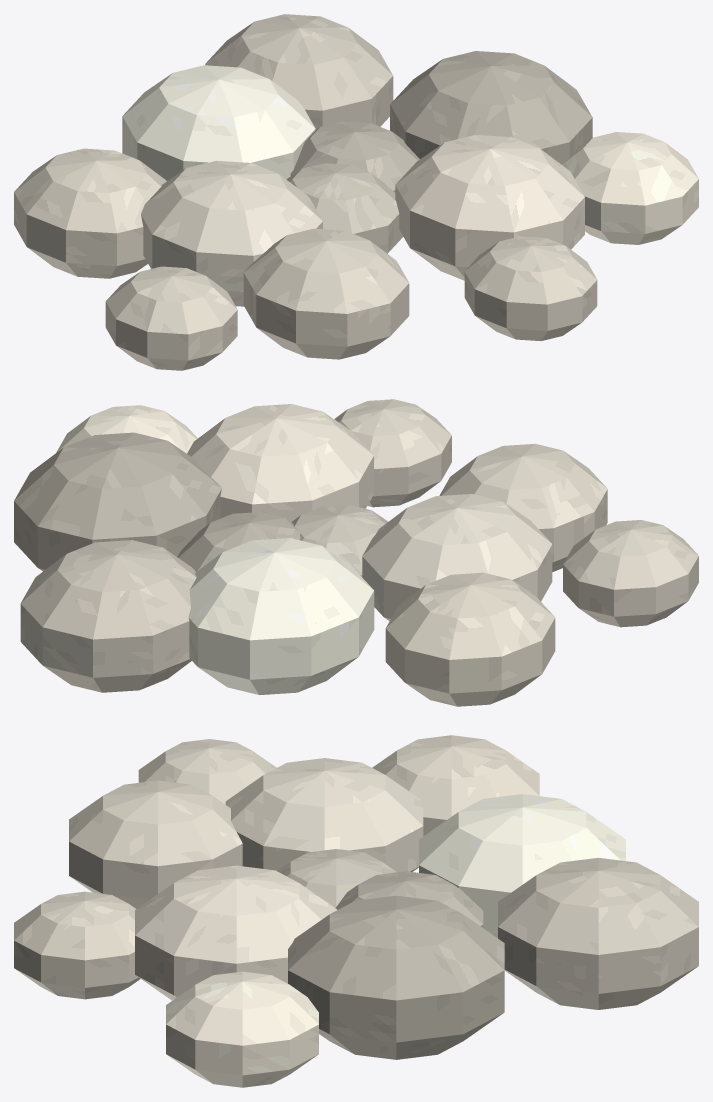
Rendered from popcorn2.glb.
The picture shows the model from 3 angles, top to bottom: view 1: azimuth 30°, elevation 25°; view 2: azimuth 150°, elevation 25°; view 3: azimuth 270°, elevation 25°; orthographic projection. The views are drawn at different scales.
Parts seen in each view (by area): view 1: block_grain 3, block_grain 5, block_grain 4, block_grain 2, block_grain 6, block_grain 7, block_grain 9, block_grain 11, block_grain 8, block_grain 10, block_grain 0, block_grain 1; view 2: block_grain 4, block_grain 9, block_grain 6, block_grain 7, block_grain 3, block_grain 2, block_grain 10, block_grain 5, block_grain 8, block_grain 0, block_grain 1, block_grain 11; view 3: block_grain 6, block_grain 9, block_grain 3, block_grain 2, block_grain 5, block_grain 4, block_grain 11, block_grain 8, block_grain 7, block_grain 10, block_grain 0, block_grain 1.
Boxes of the visible parts, x1,y1,x2,y2 form: block_grain 3: [395, 135, 584, 280]; block_grain 5: [243, 228, 409, 359]; block_grain 4: [122, 65, 315, 180]; block_grain 2: [141, 160, 322, 306]; block_grain 6: [390, 51, 592, 164]; block_grain 7: [14, 148, 166, 278]; block_grain 9: [205, 14, 393, 129]; block_grain 11: [562, 132, 698, 244]; block_grain 8: [464, 236, 597, 340]; block_grain 10: [105, 266, 237, 370]; block_grain 0: [286, 163, 403, 253]; block_grain 1: [290, 121, 419, 192]; block_grain 4: [188, 538, 374, 694]; block_grain 9: [20, 540, 196, 692]; block_grain 6: [14, 432, 221, 571]; block_grain 7: [385, 572, 555, 706]; block_grain 3: [187, 404, 373, 521]; block_grain 2: [362, 494, 552, 620]; block_grain 10: [563, 520, 698, 627]; block_grain 5: [439, 443, 607, 571]; block_grain 8: [334, 399, 451, 507]; block_grain 0: [291, 505, 388, 576]; block_grain 1: [177, 512, 300, 571]; block_grain 11: [56, 405, 197, 453]; block_grain 6: [288, 895, 504, 1059]; block_grain 9: [498, 857, 698, 1009]; block_grain 3: [135, 865, 337, 1000]; block_grain 2: [225, 758, 423, 872]; block_grain 5: [69, 780, 242, 908]; block_grain 4: [419, 794, 625, 938]; block_grain 11: [166, 971, 318, 1087]; block_grain 8: [14, 891, 140, 999]; block_grain 7: [372, 735, 539, 835]; block_grain 10: [138, 739, 276, 804]; block_grain 0: [277, 849, 396, 907]; block_grain 1: [335, 871, 483, 927].
Bounding box in the file's own units: 0.0716 × 0.0151 × 0.069.
Materials: 1 (1 with a texture image).
